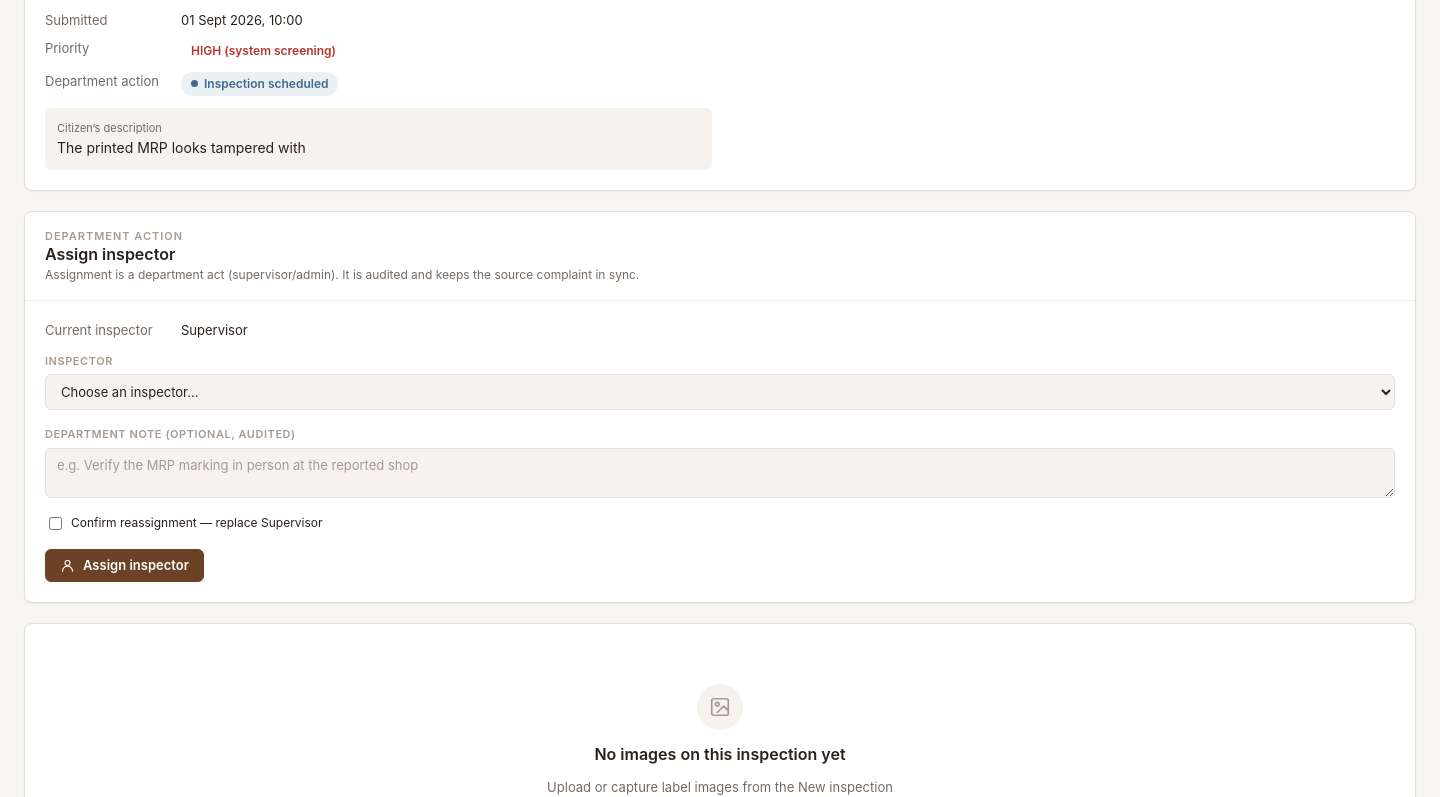
Test: RealInspectionWorkspace (UI-05) › SUPERVISOR assigns an inspector through the audited endpoint
The image size is (1440, 797).
(page scrolled)
Expected: the text "Supervisor" is shown, [181,322,248,338]
Select "Field Inspector (inspector)" in the dropdown labelled "Inspector" at (720, 392), box [45,374,1395,410]
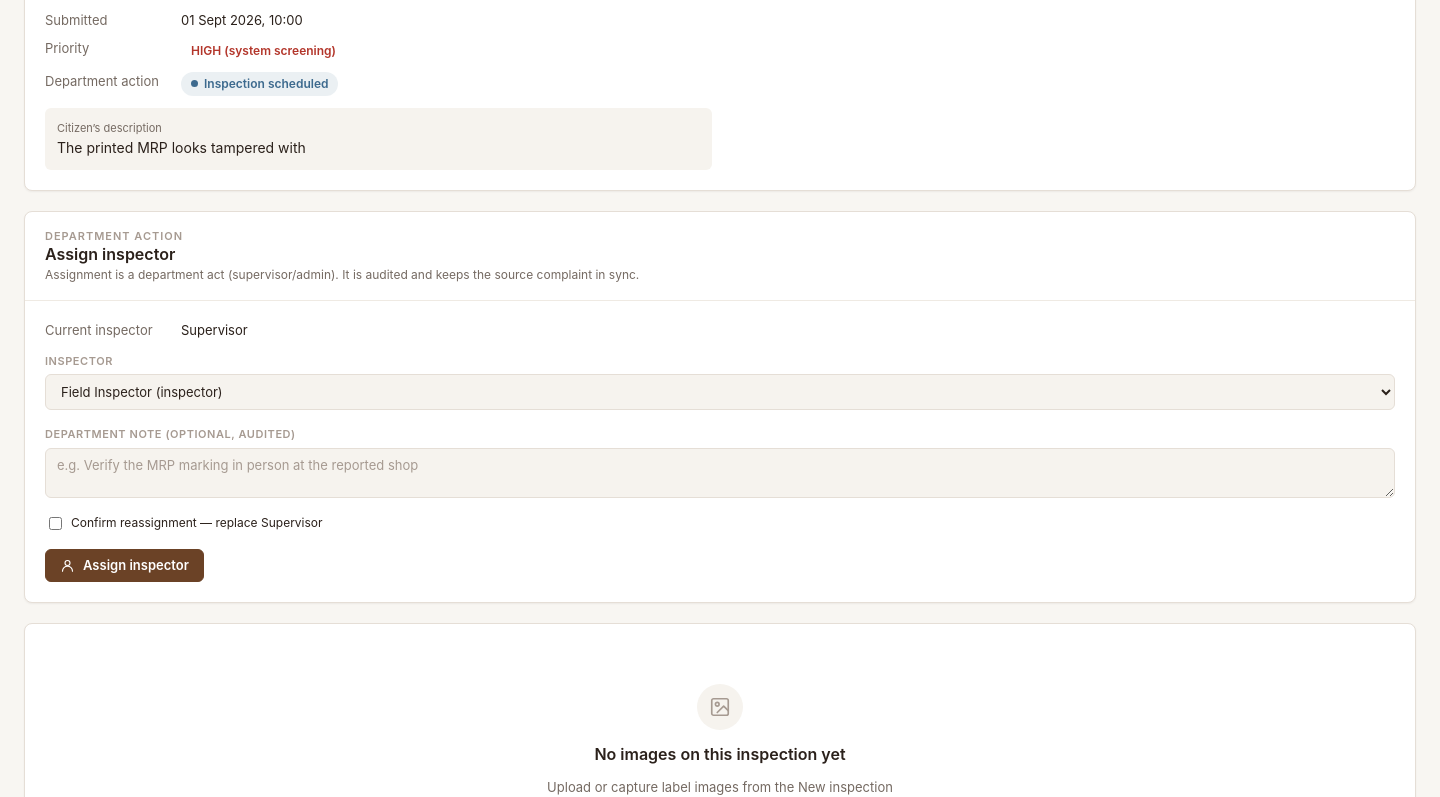
Click the button "Assign inspector" at (124, 565), box [45,549,204,582]
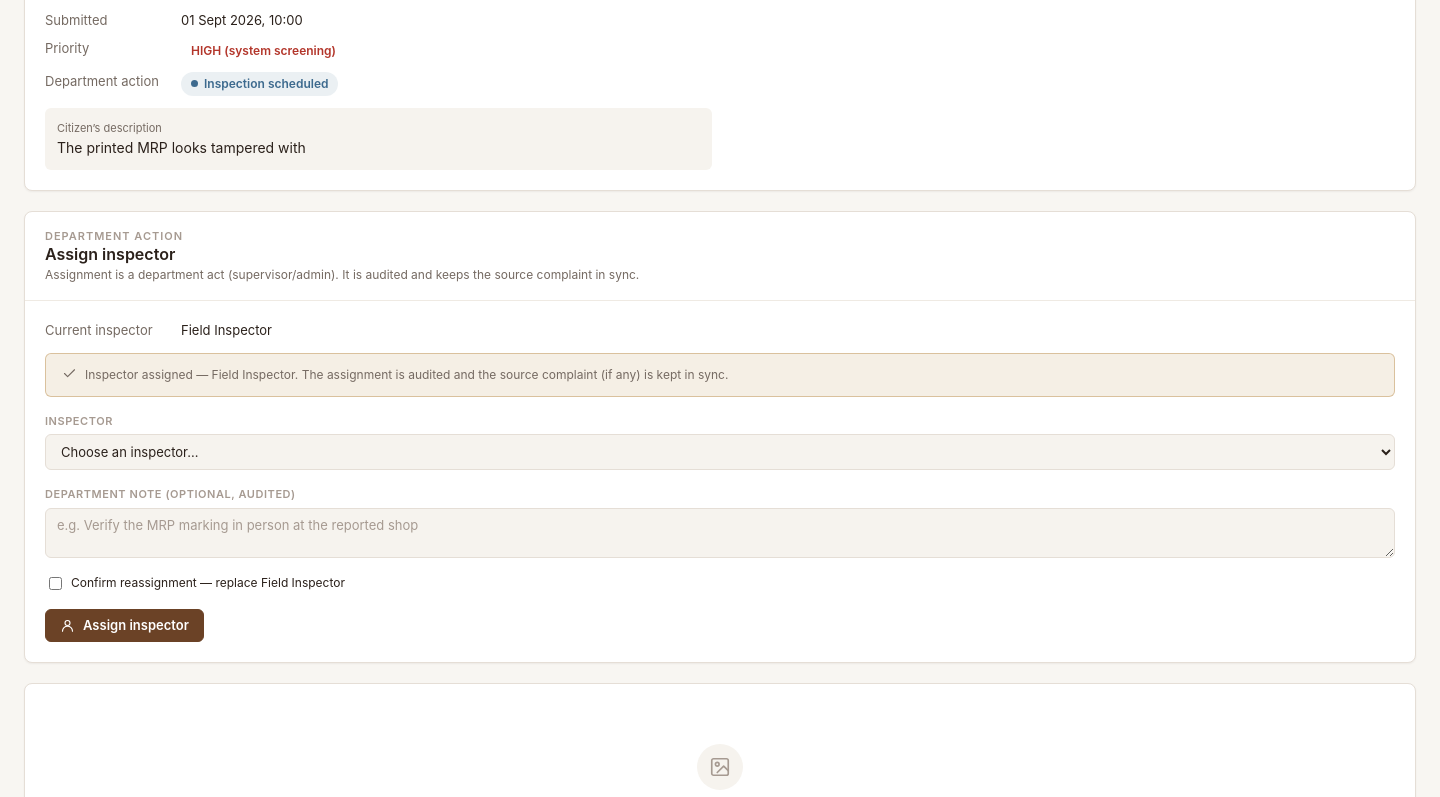
Expected: the text "assignment is audited" is shown, [85,367,728,382]
